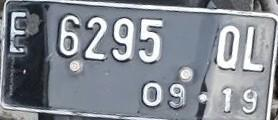2: (80, 15, 110, 63)
5: (134, 17, 166, 66)
6: (54, 12, 83, 59)
9: (107, 15, 136, 65)
D: (215, 23, 243, 78)
E: (10, 9, 28, 59)
L: (240, 26, 270, 74)
